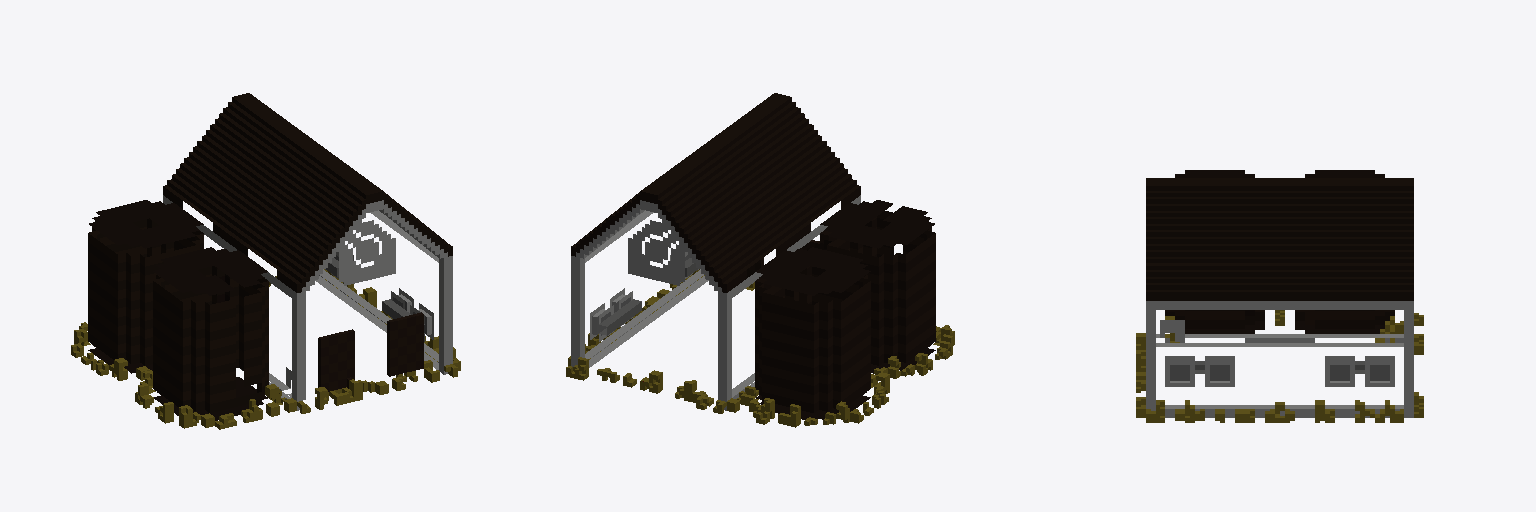
3 renders of one model, left to right at view 1: azimuth 30°, elevation 25°; view 2: azimuth 150°, elevation 25°; view 3: azimuth 270°, elevation 25°, orthographic.
Parts seen in each view (by area): view 1: apples2; view 2: apples2; view 3: apples2.
Part boxes in pixels (left/top/right/bottom): apples2: left=71, top=93, right=460, bottom=429; apples2: left=566, top=93, right=954, bottom=427; apples2: left=1136, top=170, right=1423, bottom=422.
Size of the model in its own units: 64 by 44 by 58.
Materials: 1 (1 with a texture image).